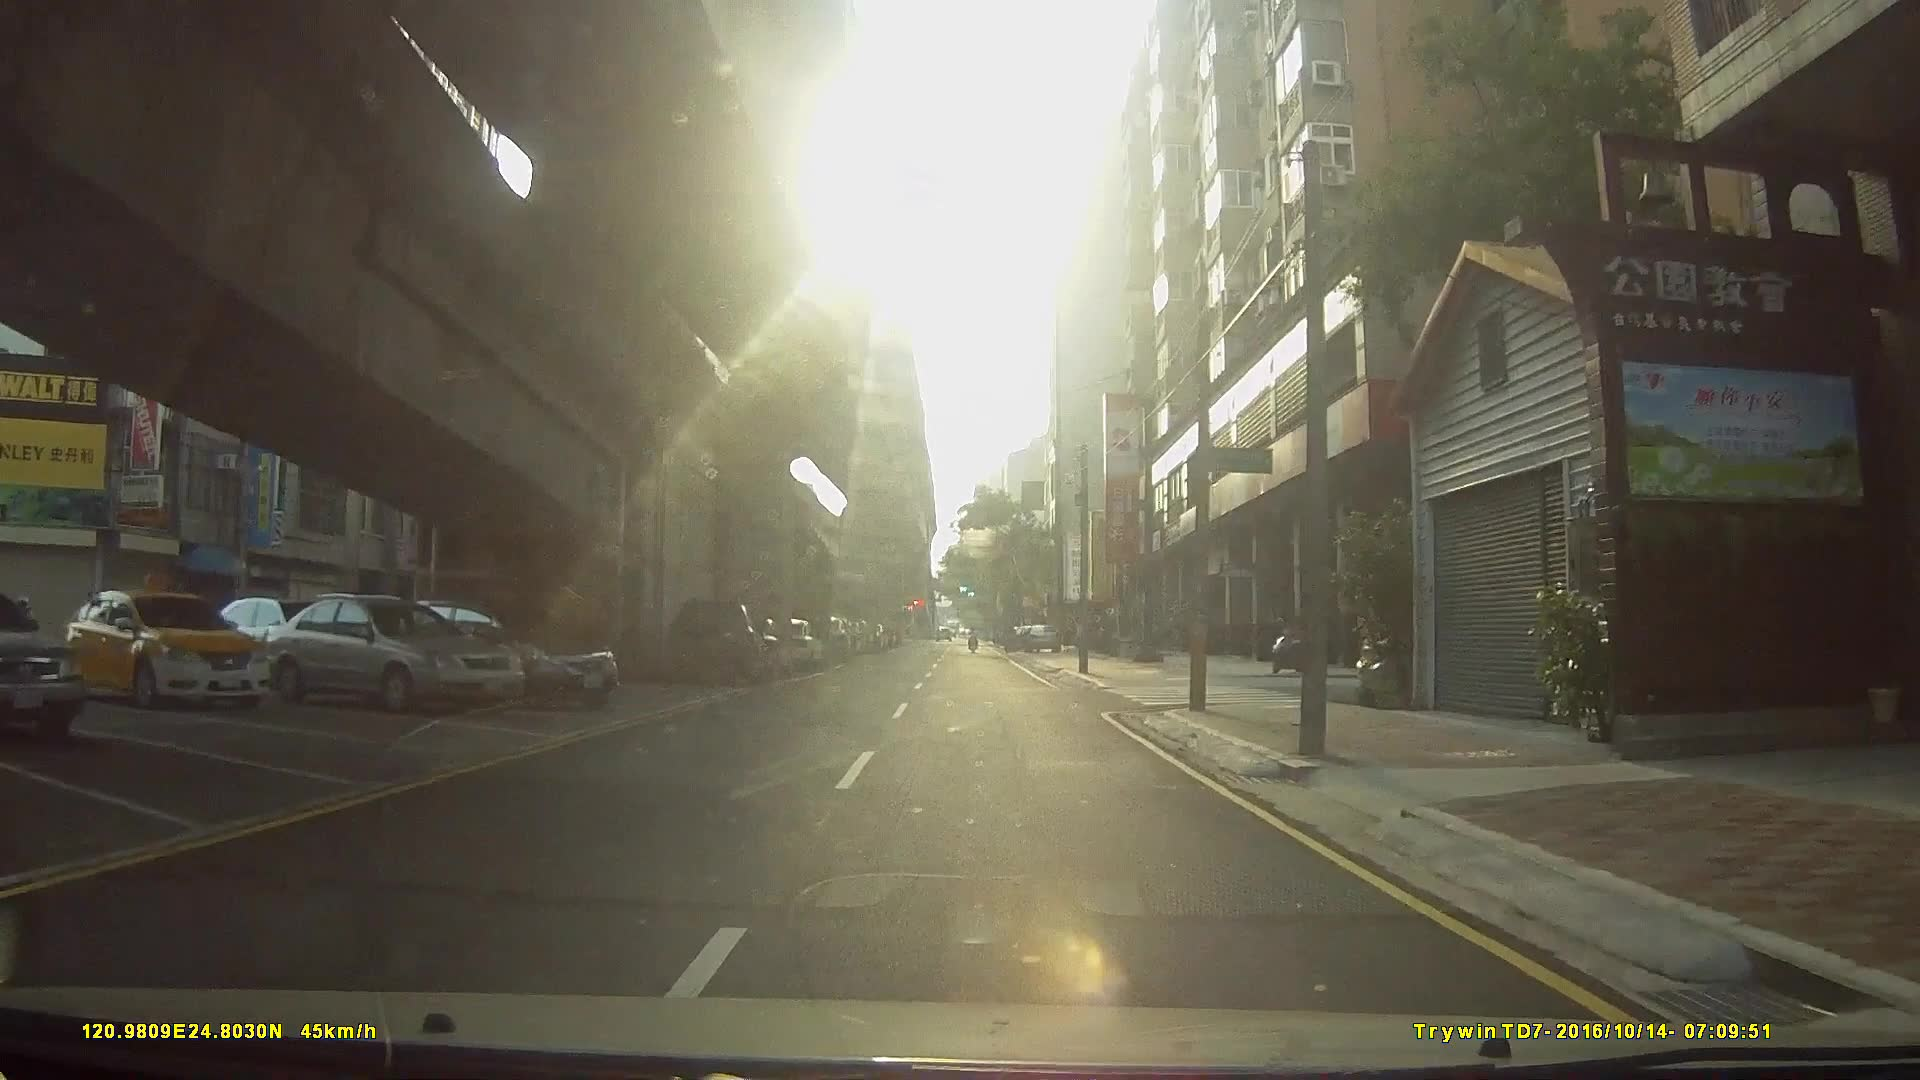vehicle: (258, 591, 526, 712), (372, 593, 621, 708), (61, 585, 268, 707), (0, 589, 84, 741), (663, 595, 767, 680)
